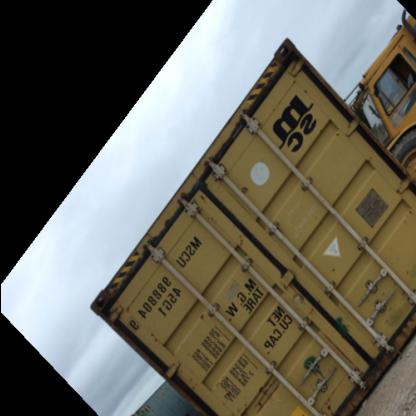Damage: (100, 277, 136, 334), (244, 375, 283, 415), (313, 258, 348, 302), (299, 345, 325, 393), (228, 182, 256, 199)
